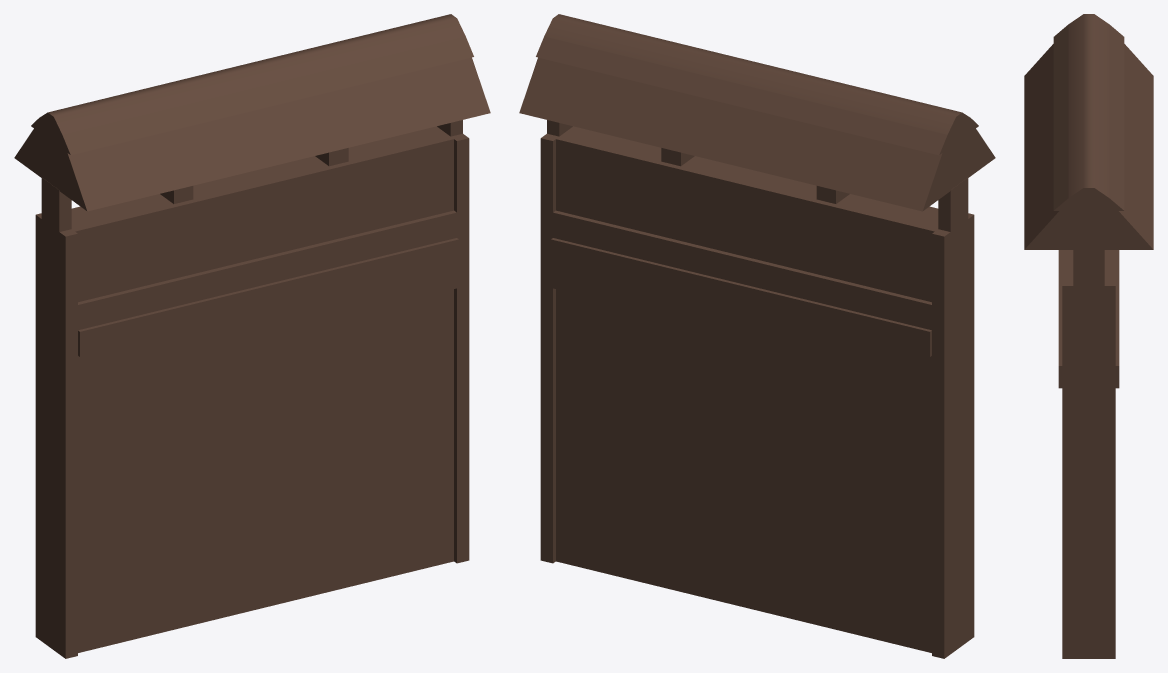
The model's file is Fence_redo.fbx.
The picture shows the model from 3 angles, left to right: view 1: azimuth 30°, elevation 25°; view 2: azimuth 150°, elevation 25°; view 3: azimuth 270°, elevation 25°; orthographic projection. The views are drawn at different scales.
Visible parts, largest first — view 1: fence_body, fence_top; view 2: fence_body, fence_top; view 3: fence_top, fence_body.
Part boxes in pixels (x1,y1,x2,y2): fence_body: [35, 120, 469, 658]; fence_top: [14, 14, 490, 211]; fence_body: [540, 120, 974, 658]; fence_top: [519, 14, 995, 211]; fence_top: [1024, 14, 1153, 249]; fence_body: [1058, 250, 1119, 658].
Bounding box in the file's own units: 154 × 194 × 48.34.
